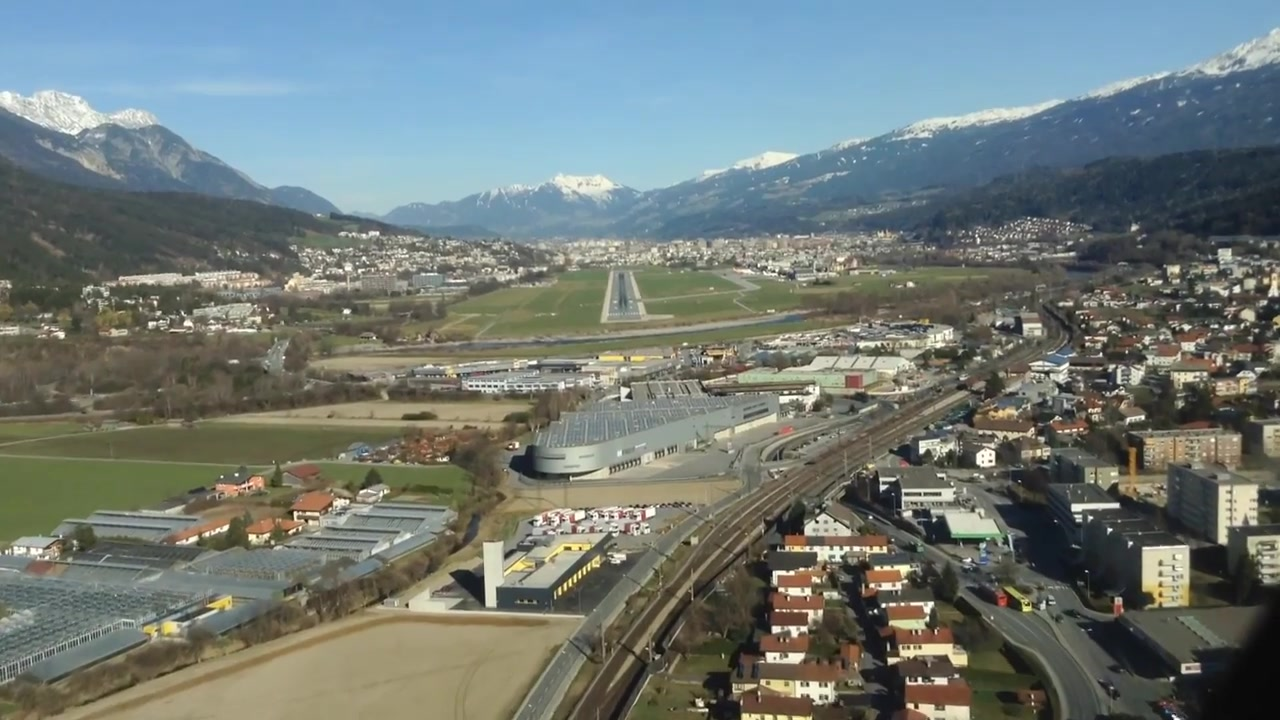entrance: (603, 309, 641, 318)
runway: (604, 269, 642, 320)
